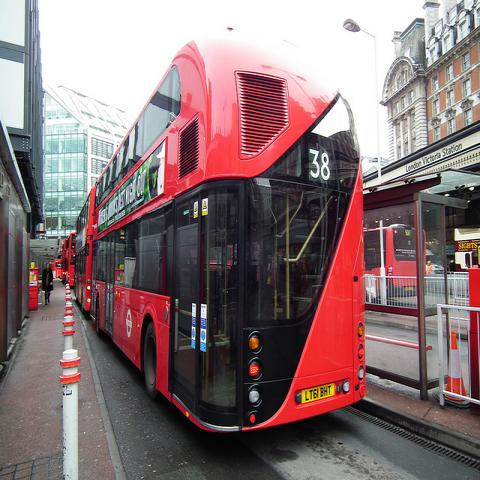bus: (93, 37, 368, 435), (72, 183, 96, 320), (364, 226, 426, 276), (49, 259, 62, 279)
